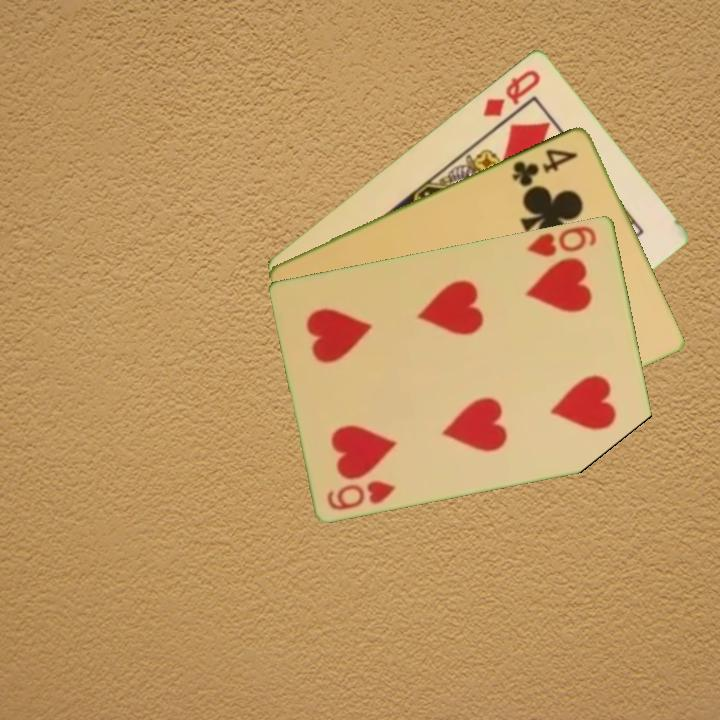4c: (508, 144, 581, 190)
6h: (524, 222, 600, 260), (323, 476, 399, 513)
Qd: (479, 65, 544, 120)
